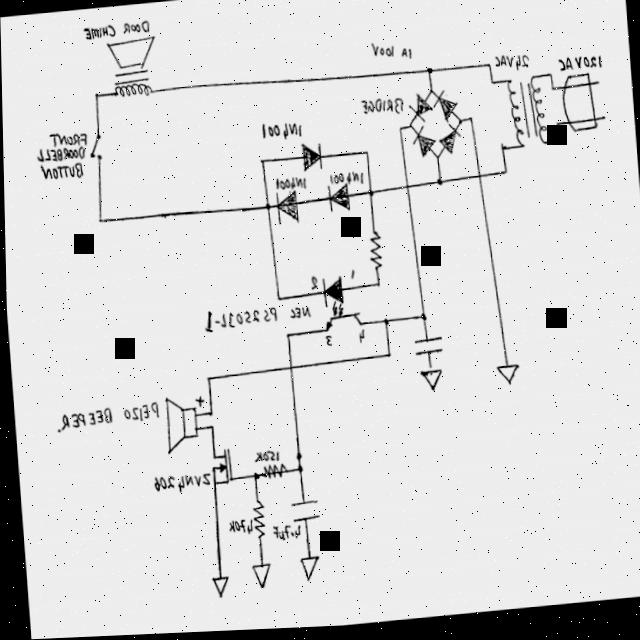capacitor: (287, 500, 318, 525), (410, 338, 442, 360)
crossover: (401, 185, 409, 194), (474, 174, 481, 184), (285, 365, 292, 374)
diode: (430, 92, 458, 126), (409, 127, 435, 162), (273, 192, 298, 228), (436, 126, 461, 159), (406, 96, 432, 127), (325, 186, 349, 216), (299, 144, 321, 174)
ground: (247, 563, 269, 591), (296, 557, 318, 584), (493, 367, 517, 390), (417, 371, 440, 395), (207, 576, 227, 601)
junction: (434, 179, 442, 190), (293, 466, 301, 477), (249, 473, 258, 482), (418, 315, 426, 324), (202, 376, 210, 385), (366, 190, 373, 200), (455, 120, 462, 130), (257, 159, 265, 167), (262, 204, 269, 213), (425, 69, 432, 78), (466, 119, 473, 127), (205, 410, 211, 419), (426, 91, 433, 98), (362, 151, 368, 159), (433, 157, 439, 165), (555, 140, 561, 148), (93, 92, 99, 100), (96, 216, 102, 224), (206, 425, 212, 433), (406, 126, 412, 134), (381, 321, 387, 328), (283, 334, 289, 341), (373, 284, 379, 291), (501, 173, 507, 180), (553, 125, 559, 132), (383, 355, 389, 361), (274, 297, 280, 303), (396, 129, 401, 136), (488, 83, 493, 90), (549, 89, 554, 96), (485, 66, 490, 72), (499, 149, 504, 155), (547, 76, 552, 82)
resistor: (247, 500, 263, 541), (365, 233, 381, 273), (259, 465, 286, 482)
switch: (86, 133, 102, 161)
terminal: (592, 83, 599, 92), (599, 119, 606, 127)
text: (201, 303, 309, 335), (53, 401, 157, 432), (149, 473, 209, 497), (82, 20, 150, 41), (355, 98, 403, 123), (370, 42, 412, 67), (556, 57, 602, 78), (36, 145, 85, 164), (38, 162, 83, 182), (259, 122, 301, 143), (493, 56, 529, 78), (49, 130, 86, 149), (268, 525, 299, 544), (327, 173, 363, 189), (224, 519, 250, 538), (274, 178, 305, 193), (249, 450, 277, 466), (306, 278, 316, 293), (354, 331, 364, 346), (346, 270, 355, 283), (322, 336, 331, 349)
transformer: (505, 78, 547, 154)
transistor: (206, 448, 232, 488)
